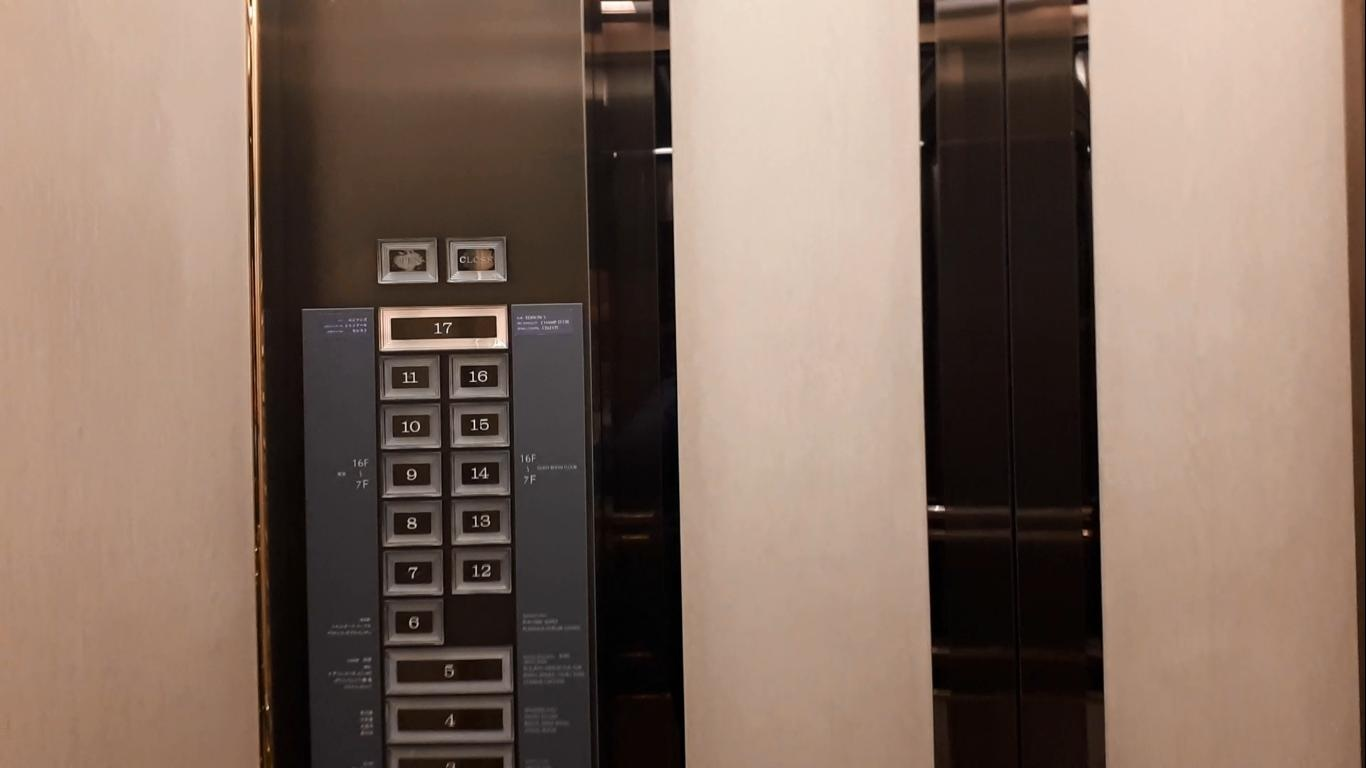10: (376, 401, 443, 451)
11: (376, 352, 443, 402)
12: (447, 545, 513, 598)
13: (448, 497, 513, 547)
14: (447, 449, 512, 499)
15: (447, 399, 511, 450)
16: (447, 352, 511, 400)
17: (375, 304, 510, 354)
4: (383, 696, 514, 745)
5: (382, 646, 515, 696)
6: (379, 597, 445, 648)
7: (380, 547, 445, 598)
8: (380, 499, 446, 549)
9: (377, 450, 444, 499)
blur: (373, 234, 440, 287)
text_close: (443, 233, 510, 285)
